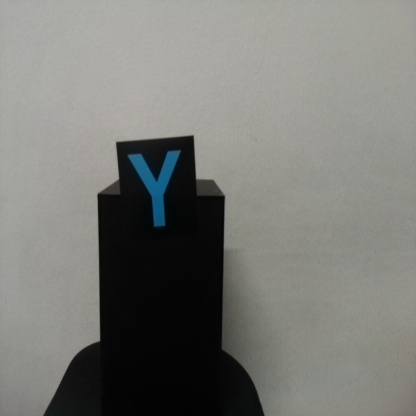id_14: (116, 142, 196, 245)
